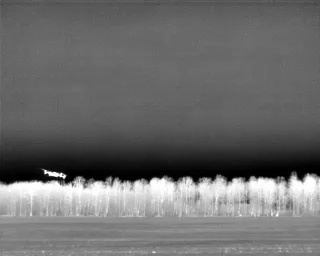DRONE: (38, 165, 70, 182)
